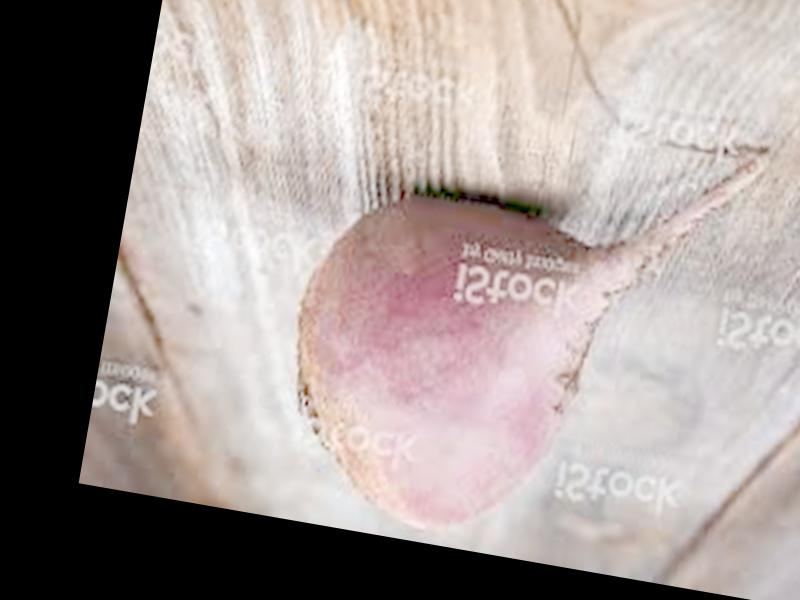Beet: (267, 79, 773, 577)
